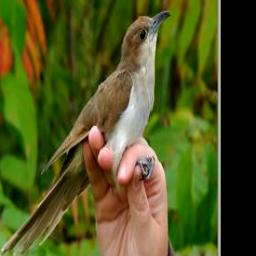Cuckoo: (0, 9, 171, 256)
